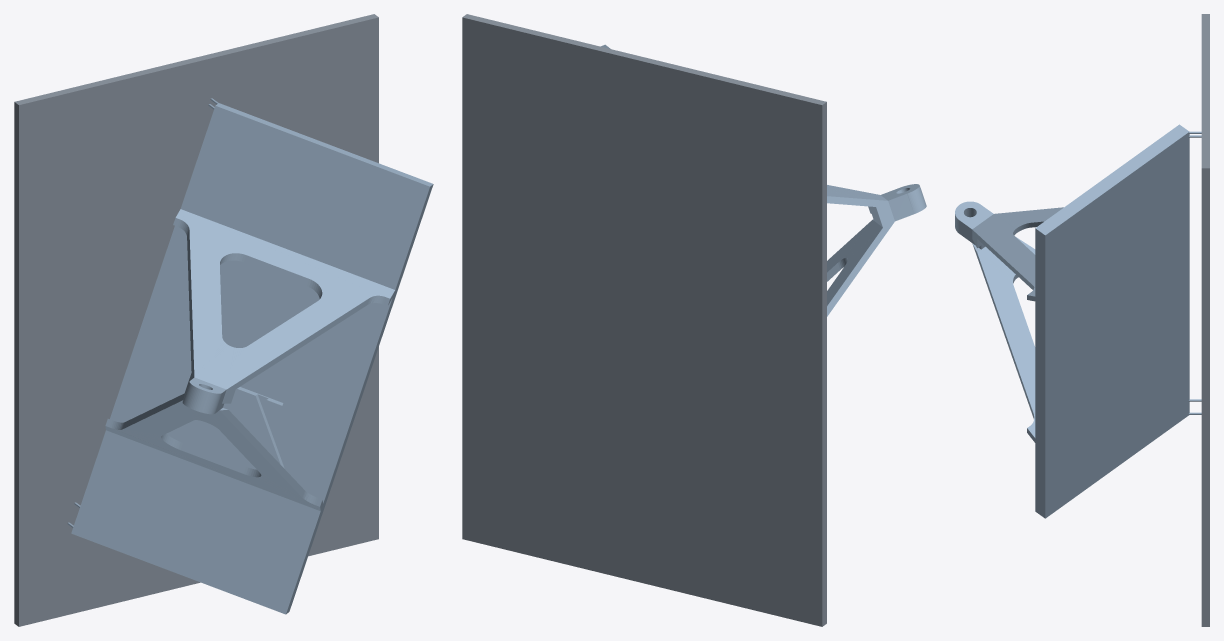
The model's file is part_original_with_platform.obj.
3 views of the same model, side by side, from view 1: azimuth 30°, elevation 25°; view 2: azimuth 150°, elevation 25°; view 3: azimuth 270°, elevation 25° (orthographic). The views are drawn at different scales.
Parts seen in each view (by area): view 1: Part, BuildPlate; view 2: BuildPlate, Part; view 3: Part, BuildPlate.
Boxes of the visible parts, x1,y1,x2,y2 form: Part: [67, 98, 433, 614]; BuildPlate: [14, 14, 378, 626]; BuildPlate: [462, 14, 826, 626]; Part: [600, 44, 926, 316]; Part: [955, 124, 1201, 518]; BuildPlate: [1201, 14, 1209, 626].
Size of the model in its own units: 89.57 by 124 by 62.49.
